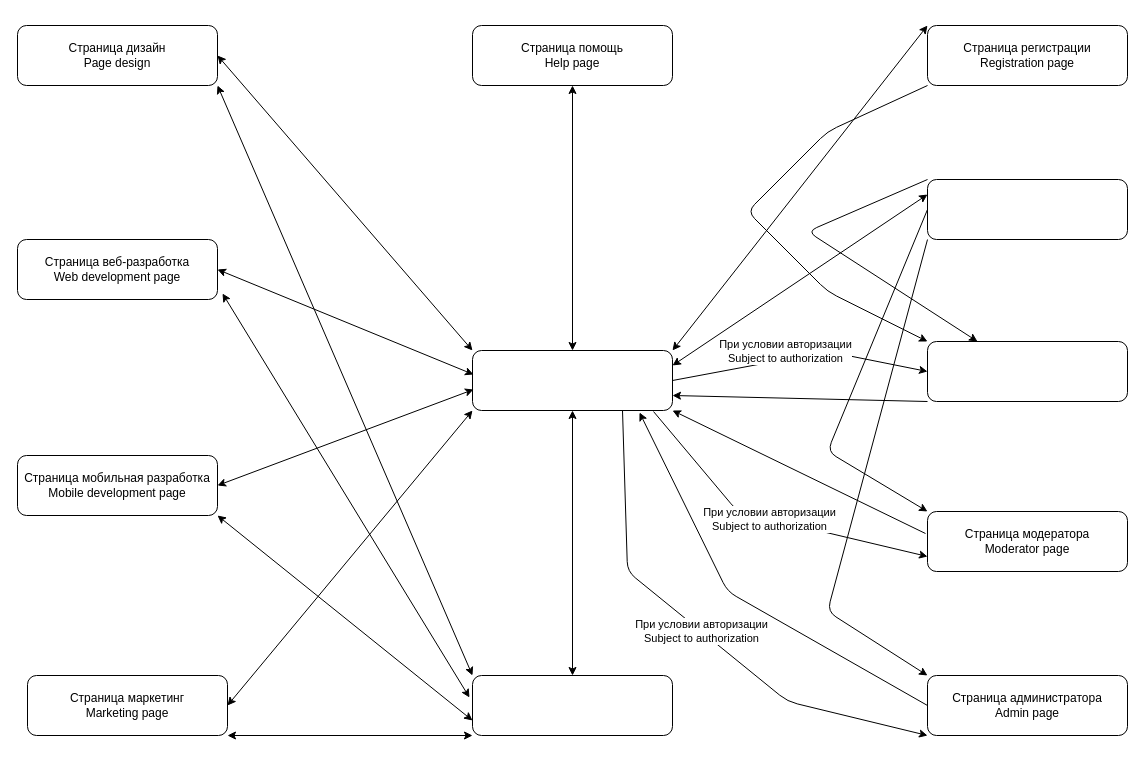
This 1145x762 diagram has some shape labels left out. The centre of each missing label's shape, as x and y in pixels:
Главная страница Home page: point (572, 380)
Личный кабинет пользователя User's personal account: point (1027, 371)
Страница авторизации Login page: point (1027, 209)
Страница статья (хабр) Article page (habr): point (572, 705)
